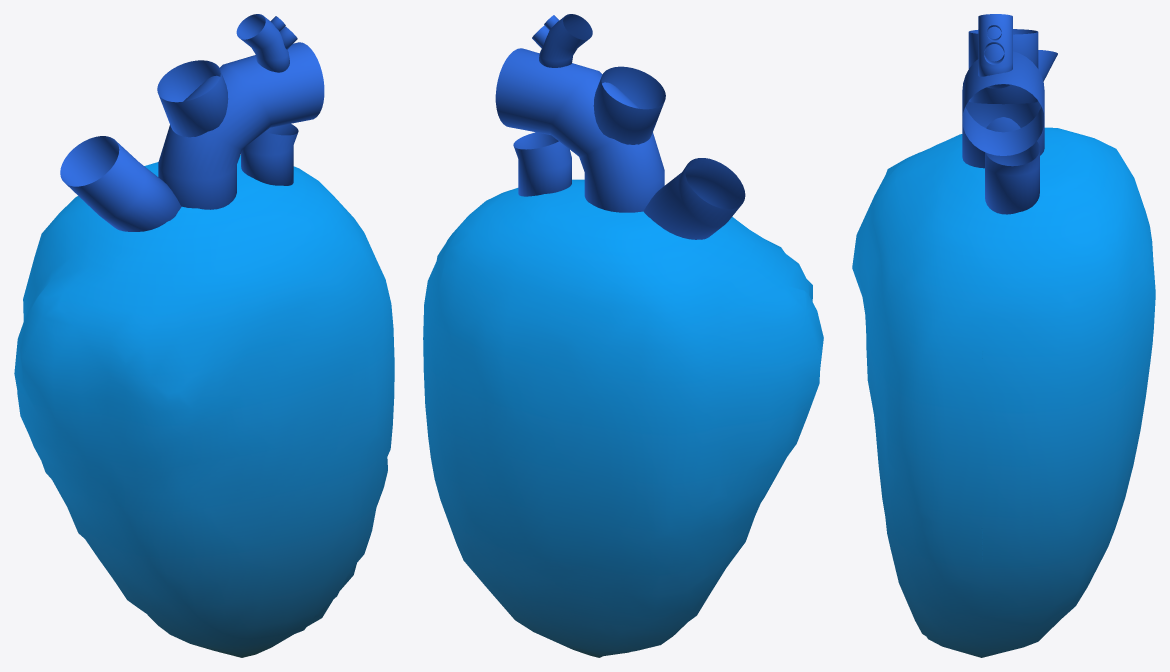
Rendered from corazon-realista.glb.
3 renders of one model, left to right at view 1: azimuth 30°, elevation 25°; view 2: azimuth 150°, elevation 25°; view 3: azimuth 270°, elevation 25°, orthographic. The views are drawn at different scales.
Visible parts, largest first — view 1: Cube, Cylinder, Cylinder.003, Cylinder.001, Cylinder.002, Cylinder.004; view 2: Cube, Cylinder, Cylinder.003, Cylinder.001, Cylinder.002, Cylinder.004; view 3: Cube, Cylinder, Cylinder.002, Cylinder.001, Cylinder.004, Cylinder.003.
Part boxes in pixels (x1,y1,x2,y2): Cube: [14, 155, 394, 657]; Cylinder: [158, 42, 324, 209]; Cylinder.003: [60, 136, 181, 231]; Cylinder.001: [157, 60, 228, 137]; Cylinder.002: [241, 123, 298, 185]; Cylinder.004: [236, 14, 289, 72]; Cube: [423, 179, 823, 657]; Cylinder: [495, 48, 664, 212]; Cylinder.003: [643, 158, 745, 239]; Cylinder.001: [593, 66, 665, 144]; Cylinder.002: [513, 132, 571, 196]; Cylinder.004: [539, 14, 592, 67]; Cube: [852, 127, 1155, 657]; Cylinder: [962, 51, 1044, 168]; Cylinder.002: [985, 141, 1039, 214]; Cylinder.001: [968, 29, 1038, 104]; Cylinder.004: [978, 14, 1012, 88]; Cylinder.003: [986, 50, 1057, 132].
Bounding box in the file's own units: 2.21 × 3.61 × 1.53.
Materials: 2 (1 with a texture image).
